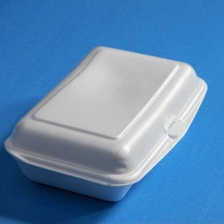foam_box: (0, 41, 212, 206)
